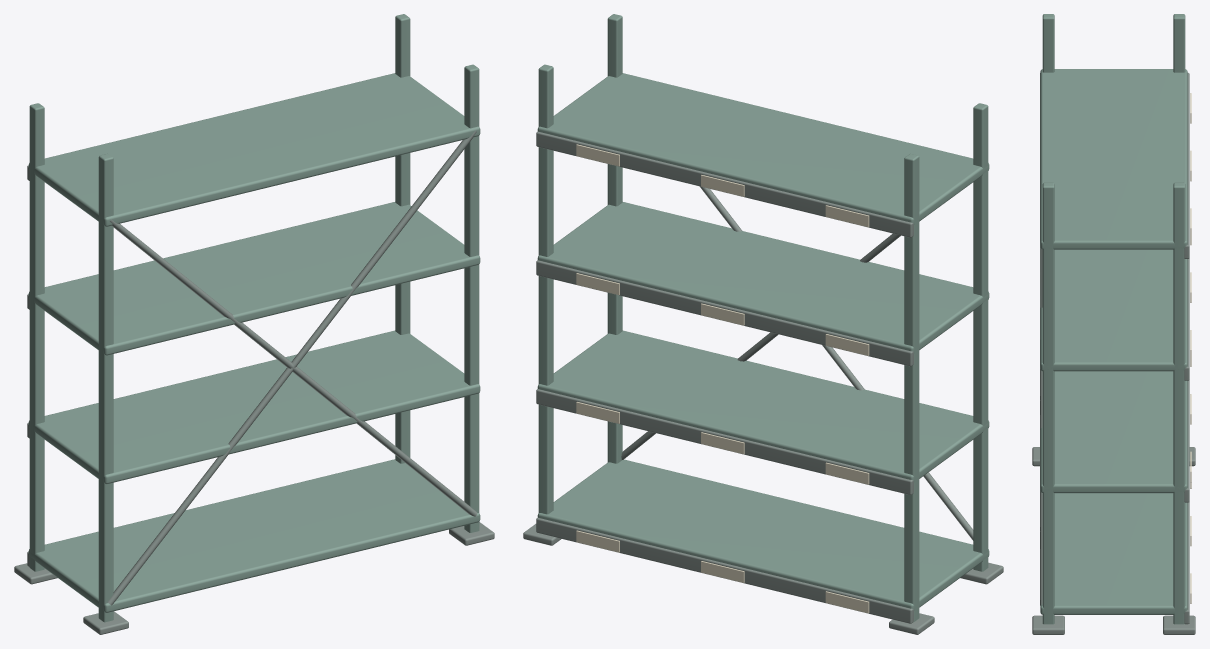
Rendered from shelf.glb.
3 views of the same model, side by side, from view 1: azimuth 30°, elevation 25°; view 2: azimuth 150°, elevation 25°; view 3: azimuth 270°, elevation 25° (orthographic). The views are drawn at different scales.
Parts seen in each view (by area): view 1: Surface Sage enamel.003, Surface Brushed dark steel.002; view 2: Surface Sage enamel.003, Surface Brushed dark steel.002, Surface Ivory paper.004; view 3: Surface Sage enamel.003, Surface Brushed dark steel.002, Surface Ivory paper.004.
Boxes of the visible parts, x1,y1,x2,y2 form: Surface Sage enamel.003: [28, 14, 480, 622]; Surface Brushed dark steel.002: [14, 130, 494, 634]; Surface Sage enamel.003: [537, 14, 989, 622]; Surface Brushed dark steel.002: [523, 131, 1003, 634]; Surface Ivory paper.004: [576, 144, 869, 613]; Surface Sage enamel.003: [1040, 14, 1187, 624]; Surface Brushed dark steel.002: [1032, 73, 1195, 634]; Surface Ivory paper.004: [1190, 93, 1191, 603].
Bounding box in the file's own units: 2.38 × 2.7 × 0.9.
